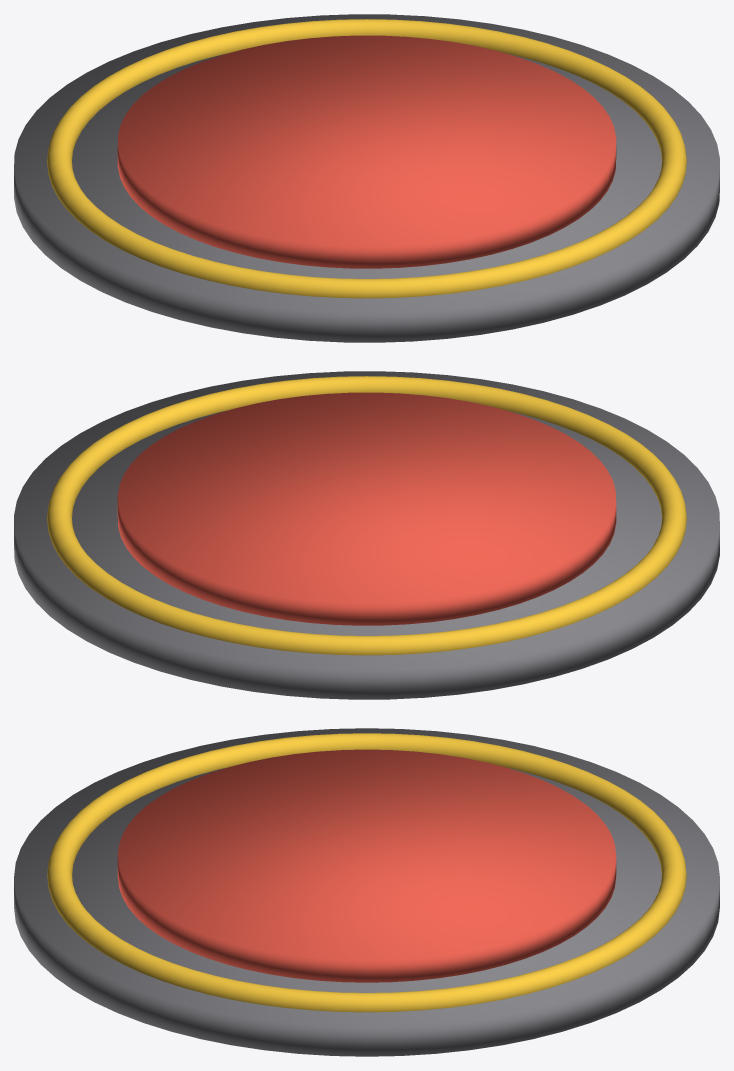
Rendered from button.glb.
The picture shows the model from 3 angles, top to bottom: view 1: azimuth 30°, elevation 25°; view 2: azimuth 150°, elevation 25°; view 3: azimuth 270°, elevation 25°; orthographic projection.
Parts seen in each view (by area): view 1: plate, base, hazard; view 2: plate, base, hazard; view 3: plate, base, hazard.
Part boxes in pixels (bbox=[...]): plate: bbox=[117, 35, 616, 268]; base: bbox=[14, 14, 719, 342]; hazard: bbox=[47, 19, 686, 298]; plate: bbox=[117, 392, 616, 625]; base: bbox=[14, 371, 719, 699]; hazard: bbox=[47, 376, 686, 655]; plate: bbox=[117, 749, 616, 982]; base: bbox=[14, 728, 719, 1056]; hazard: bbox=[47, 733, 686, 1012].
Bounding box in the file's own units: 1.7 × 0.14 × 1.7.
